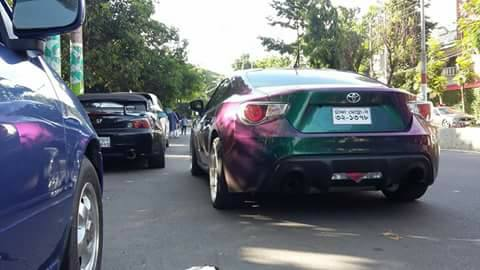registration_plate: (332, 106, 372, 125)
